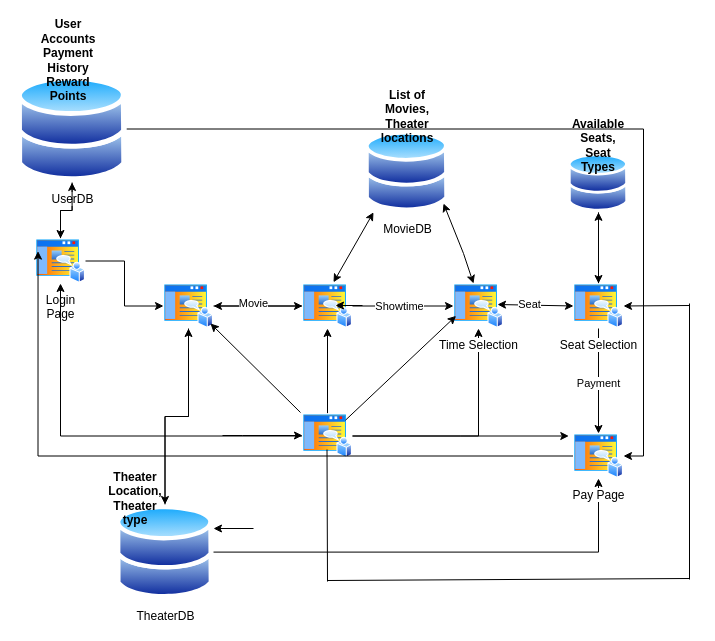
Some shapes in this 715 by 641 pixel diagram are drawn without their labels. The shapes that lost their labels are listed below. From the top down, each one's centre as x and y in pixels, then its label:
(x=598, y=182): SeatDB
(x=188, y=305): Customer Page
(x=327, y=305): Movie Selection
(x=327, y=435): Admin Page
